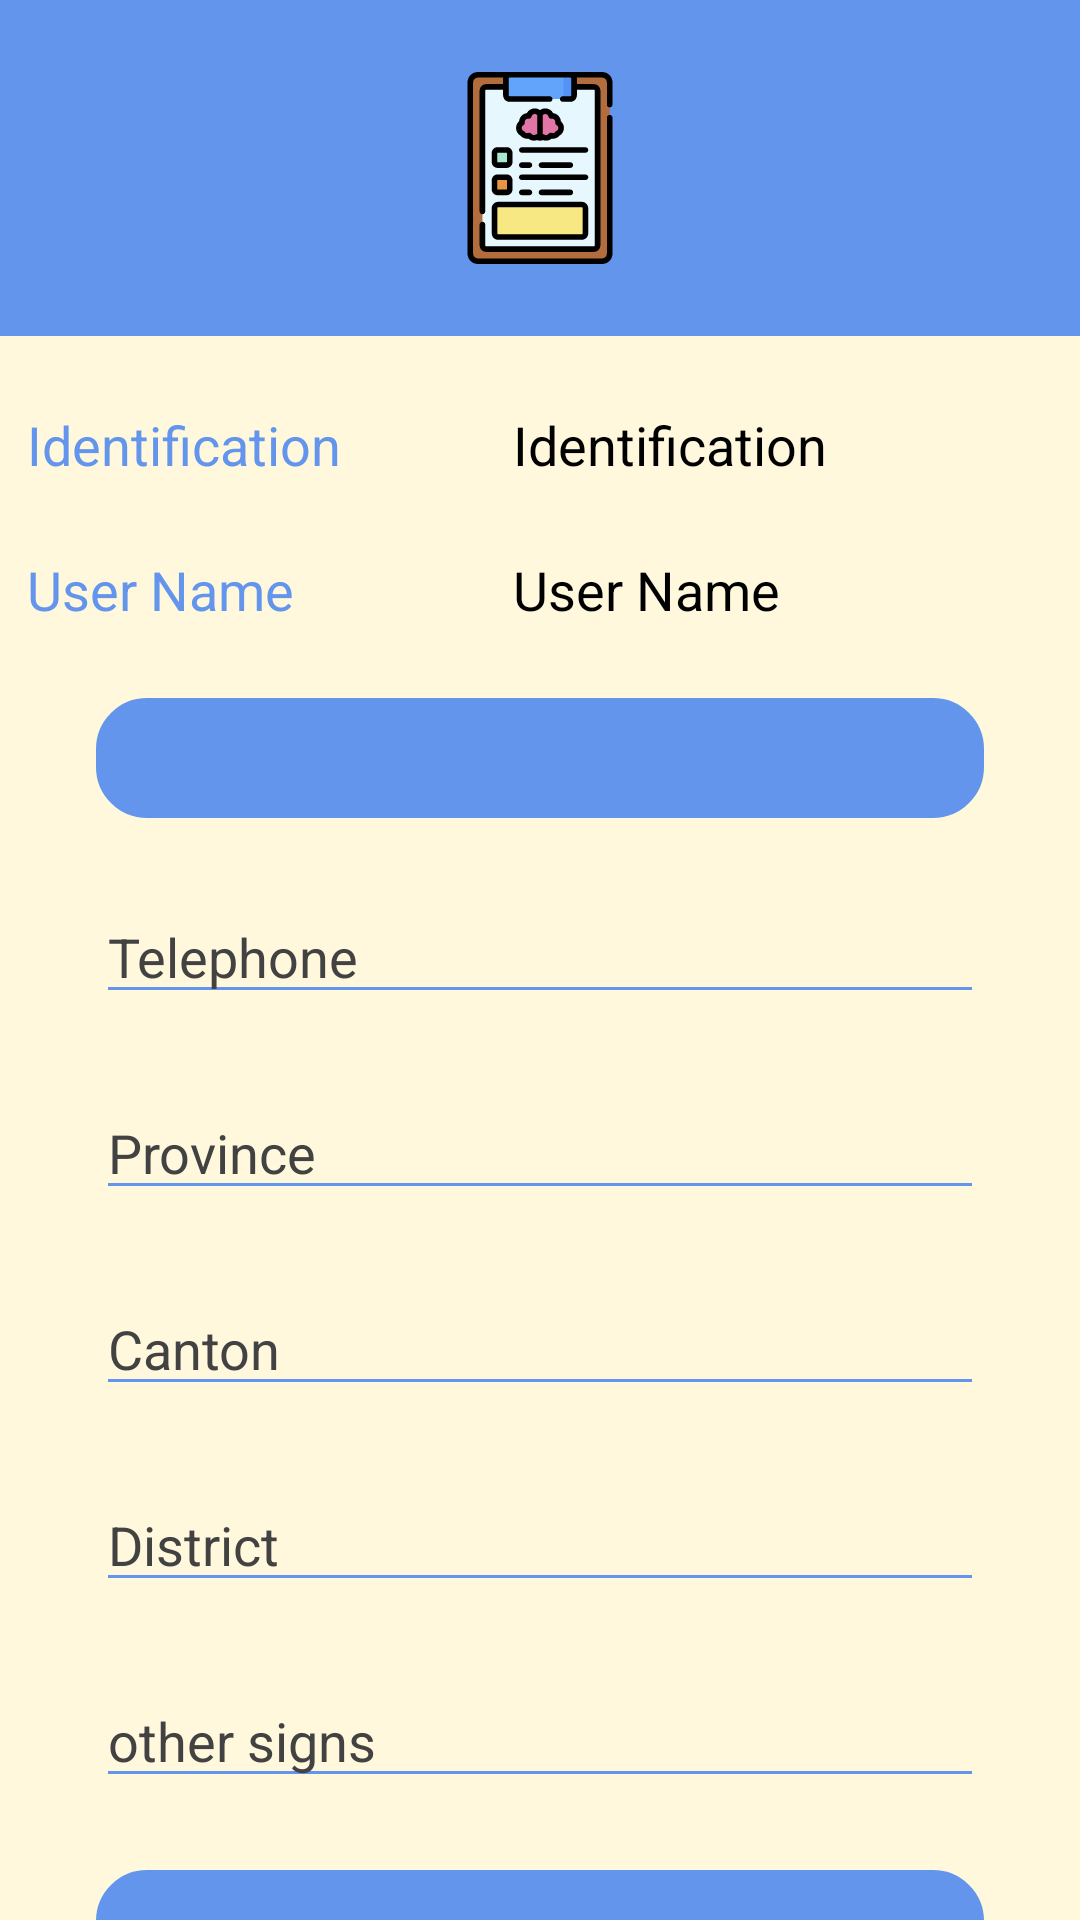

Where to tap for icons on this 1080x1920 app screen, as (x,y):
user data: (540,168)
